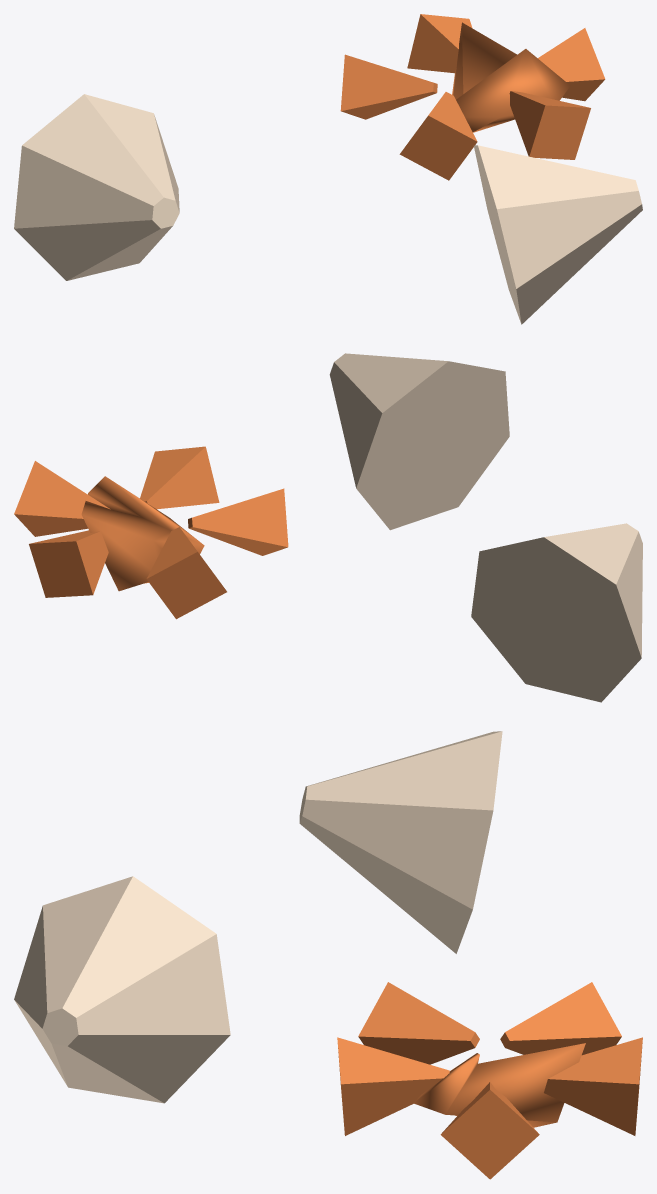
File: hd_shells.gltf
3 renders of one model, top to bottom at view 1: azimuth 30°, elevation 25°; view 2: azimuth 150°, elevation 25°; view 3: azimuth 270°, elevation 25°, orthographic. The views are drawn at different scales.
Parts seen in each view (by area): view 1: shell0, shell1, star, sarm4, sarm2, sarm3, sarm0, sarm1; view 2: shell0, shell1, star, sarm3, sarm1, sarm2, sarm4, sarm0; view 3: shell1, shell0, star, sarm4, sarm1, sarm3, sarm2, sarm0.
Part boxes in pixels (x1=…): shell0: x1=14, y1=94, x2=179, y2=280; shell1: x1=474, y1=145, x2=642, y2=324; star: x1=452, y1=22, x2=570, y2=132; sarm4: x1=509, y1=91, x2=590, y2=159; sarm2: x1=340, y1=54, x2=437, y2=119; sarm3: x1=399, y1=92, x2=477, y2=180; sarm0: x1=538, y1=28, x2=605, y2=101; sarm1: x1=407, y1=14, x2=472, y2=73; shell0: x1=471, y1=523, x2=642, y2=702; shell1: x1=329, y1=353, x2=509, y2=530; star: x1=81, y1=476, x2=204, y2=591; sarm3: x1=188, y1=488, x2=288, y2=555; sarm1: x1=29, y1=530, x2=108, y2=597; sarm2: x1=146, y1=527, x2=226, y2=619; sarm4: x1=140, y1=446, x2=219, y2=509; sarm0: x1=14, y1=461, x2=110, y2=536; shell1: x1=14, y1=876, x2=230, y2=1103; shell0: x1=299, y1=731, x2=502, y2=953; star: x1=413, y1=1043, x2=585, y2=1127; sarm4: x1=337, y1=1037, x2=449, y2=1135; sarm1: x1=544, y1=1037, x2=642, y2=1135; sarm3: x1=358, y1=982, x2=479, y2=1064; sarm2: x1=500, y1=982, x2=621, y2=1055; sarm0: x1=440, y1=1082, x2=539, y2=1179.
Size of the model in its own units: 0.822 by 0.2233 by 0.6329.
